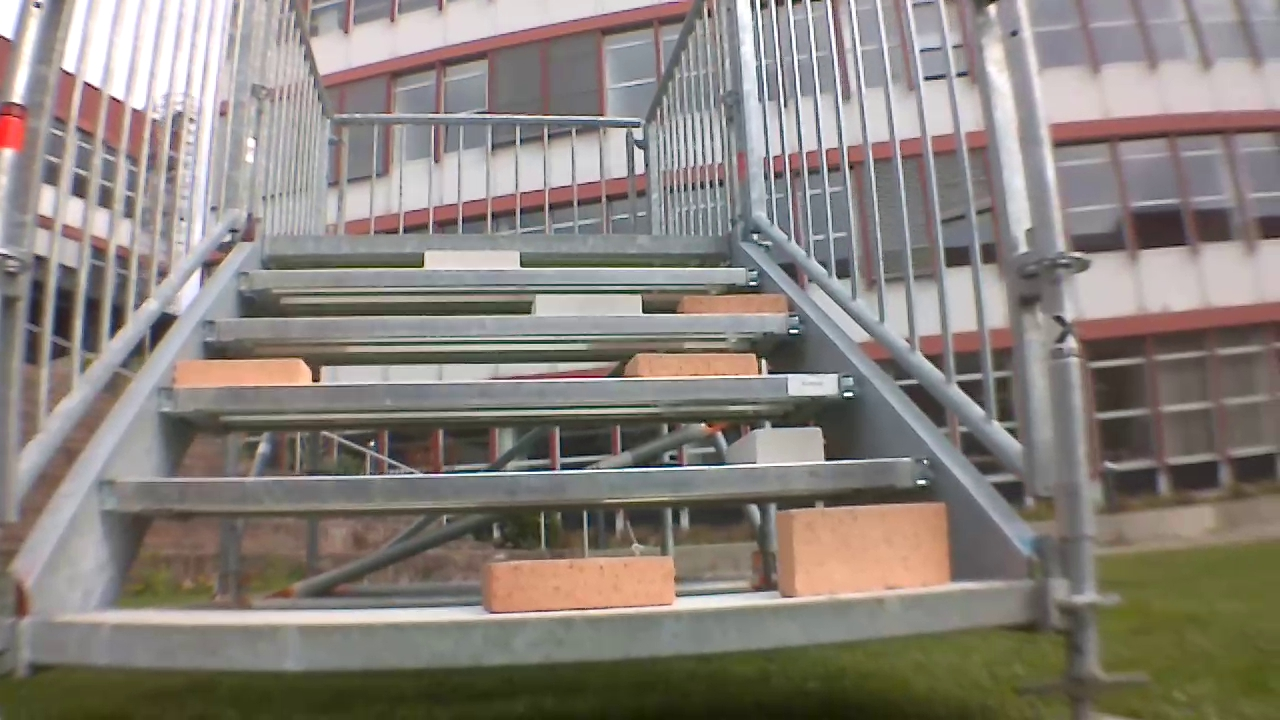brick: (770, 502, 948, 604), (481, 557, 686, 615), (165, 355, 316, 385), (729, 425, 833, 468), (618, 346, 759, 376), (528, 286, 652, 315), (416, 245, 526, 274), (677, 294, 790, 313)
edge: (32, 579, 1043, 663), (95, 453, 944, 514), (153, 376, 864, 416), (228, 259, 772, 297), (196, 312, 811, 340), (262, 231, 736, 256)
stairs: (0, 0, 1115, 706)
steps: (7, 218, 1070, 667)
